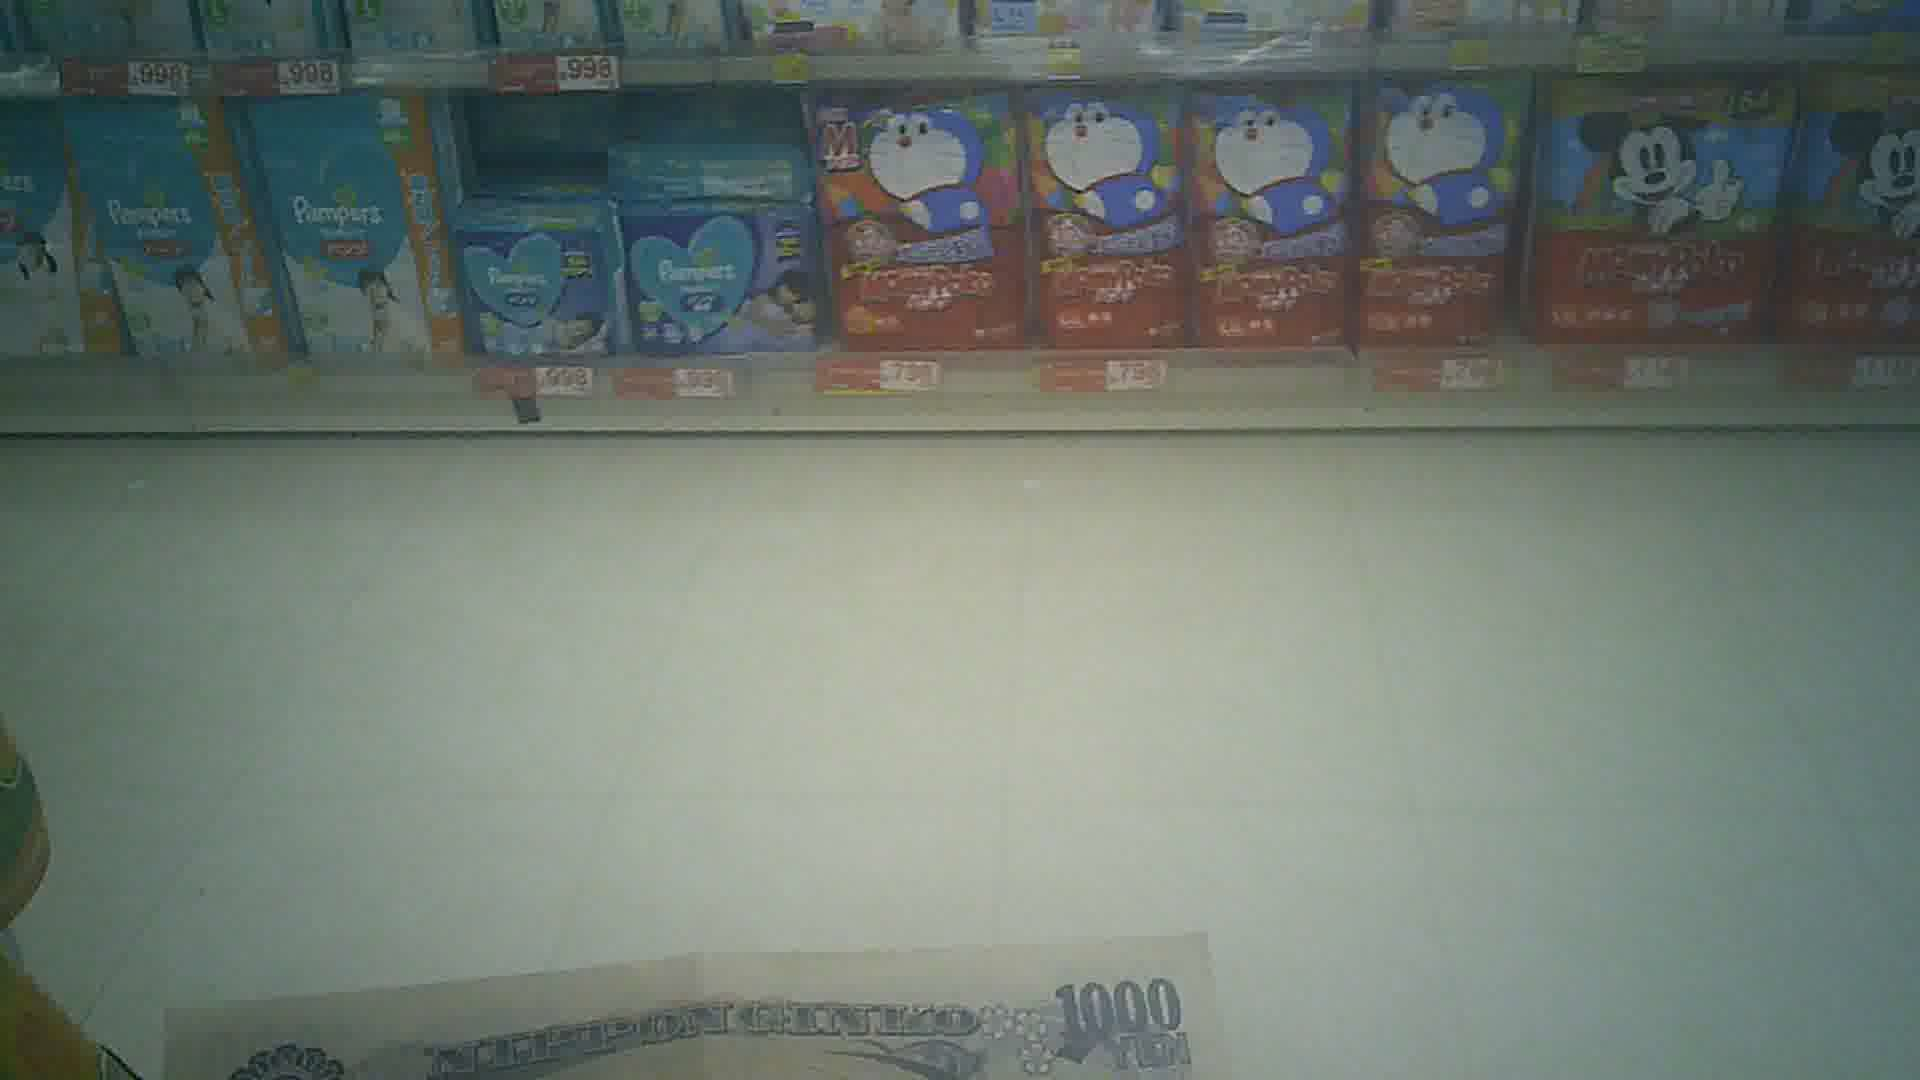1,000 Yen: (148, 945, 1279, 1073)
